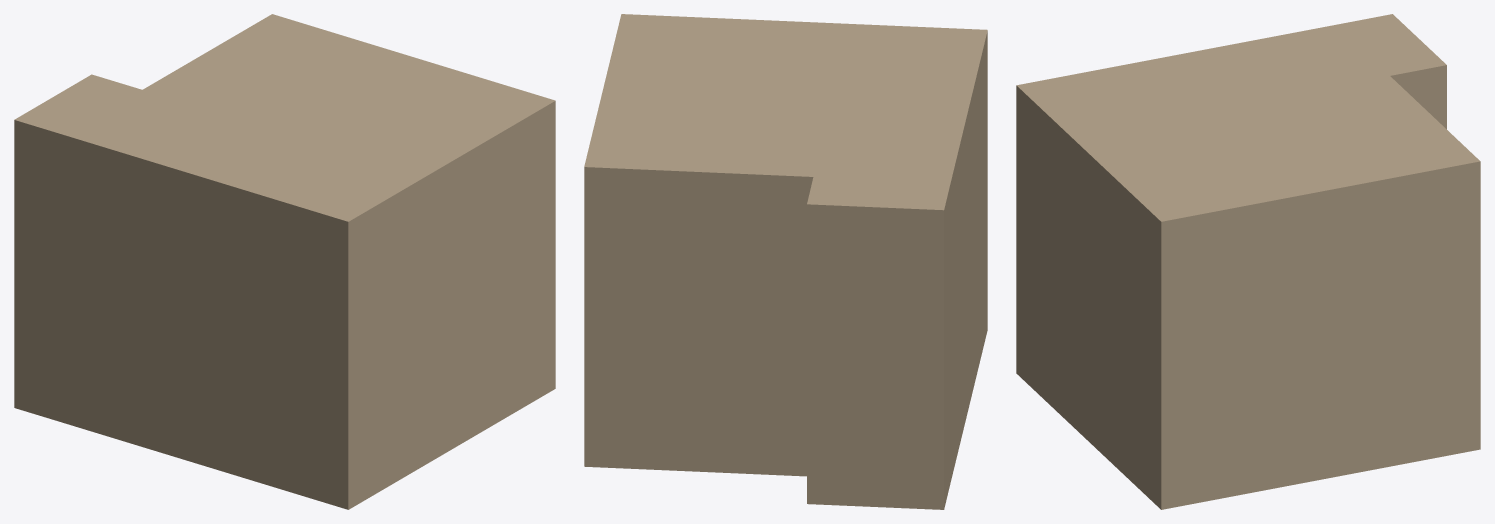
Rendered from bld_106339046.dae.
The picture shows the model from 3 angles, left to right: view 1: azimuth 30°, elevation 25°; view 2: azimuth 150°, elevation 25°; view 3: azimuth 270°, elevation 25°; orthographic projection. The views are drawn at different scales.
Visible parts, largest first — view 1: bld_106339046; view 2: bld_106339046; view 3: bld_106339046.
Part boxes in pixels (<box>): bld_106339046: <box>14,14,555,509</box>; bld_106339046: <box>584,14,987,509</box>; bld_106339046: <box>1016,14,1480,509</box>.
Bounding box in the file's own units: 12.38 × 11.68 × 8.
